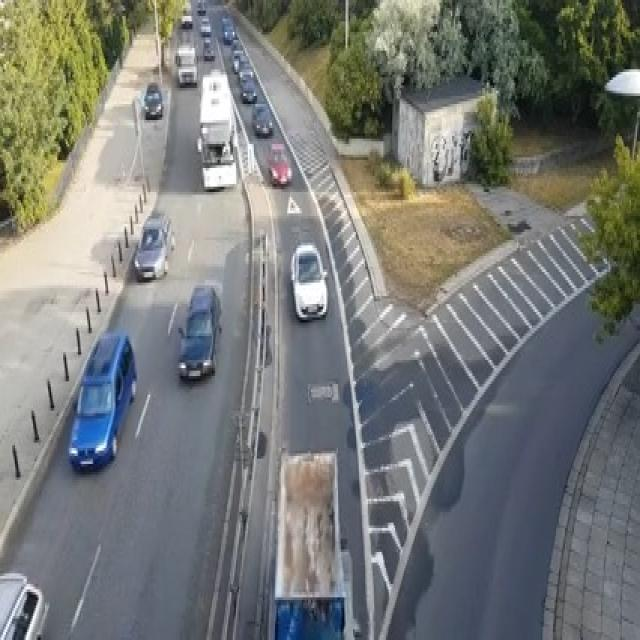bus: (197, 67, 237, 189)
car: (67, 328, 136, 472), (177, 282, 221, 378), (0, 571, 50, 637), (290, 243, 327, 320), (134, 211, 174, 280), (266, 141, 291, 187), (174, 43, 197, 85), (251, 101, 272, 136), (143, 83, 162, 117), (177, 61, 197, 85), (174, 43, 196, 64), (231, 48, 248, 72), (240, 80, 257, 101), (221, 16, 234, 43), (239, 66, 254, 82), (222, 27, 235, 42), (200, 16, 210, 35), (203, 45, 215, 59), (180, 13, 192, 27), (197, 0, 206, 13)
